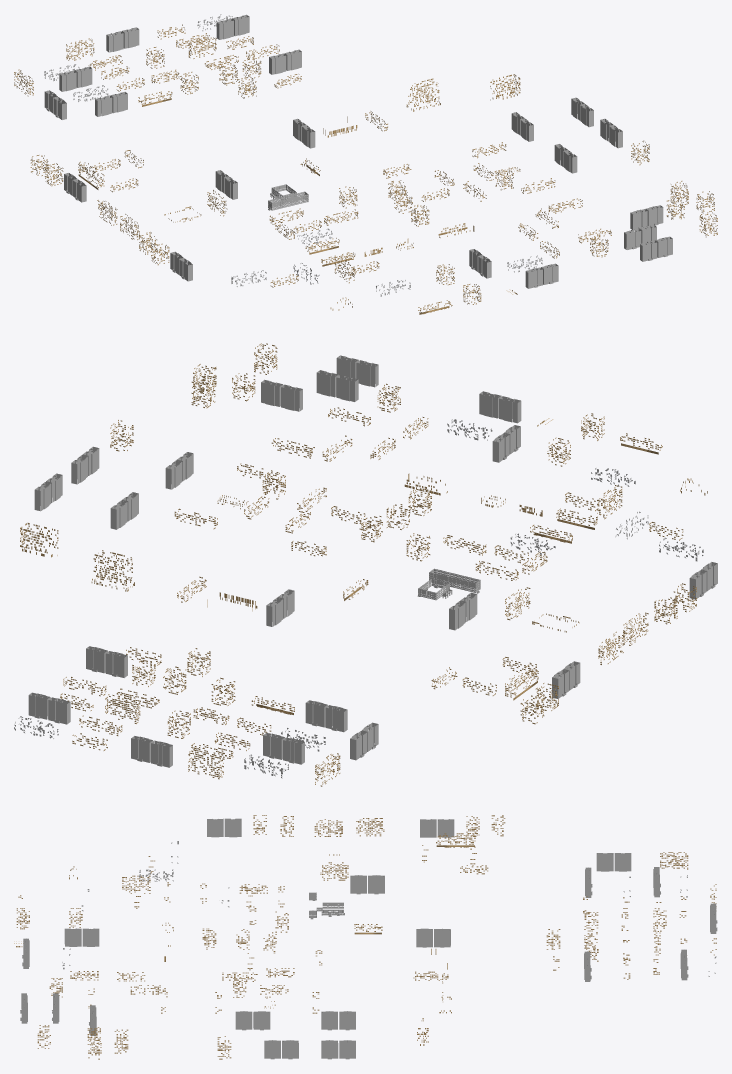
Rendered from city_lights.obj.
3 views of the same model, one above another, from view 1: azimuth 30°, elevation 25°; view 2: azimuth 150°, elevation 25°; view 3: azimuth 270°, elevation 25° (orthographic). The views are drawn at different scales.
Visible parts, largest first — view 1: Lit_WindowLit; view 2: Lit_WindowLit; view 3: Lit_WindowLit.
Part boxes in pixels (x1=…): Lit_WindowLit: x1=14, y1=24, x2=717, y2=314; Lit_WindowLit: x1=60, y1=343, x2=696, y2=786; Lit_WindowLit: x1=16, y1=815, x2=716, y2=1059.
Bounding box in the file's own units: 949 × 46.36 × 1232.
